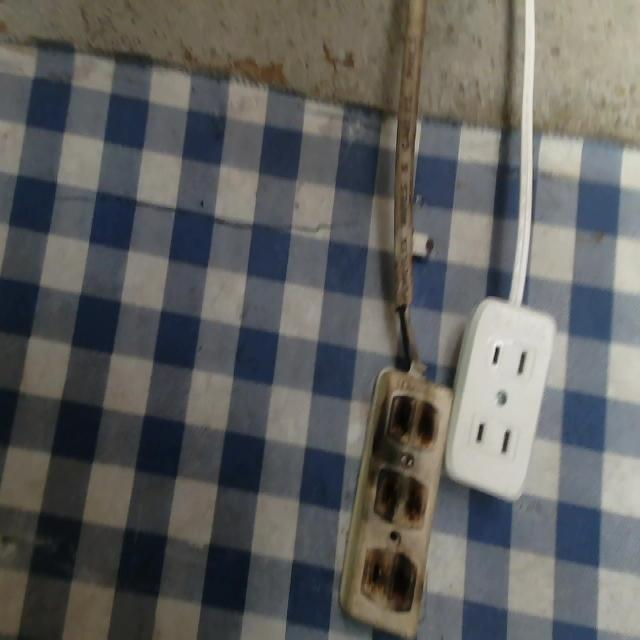-: (364, 459, 433, 528), (356, 540, 418, 613), (384, 386, 440, 454)
